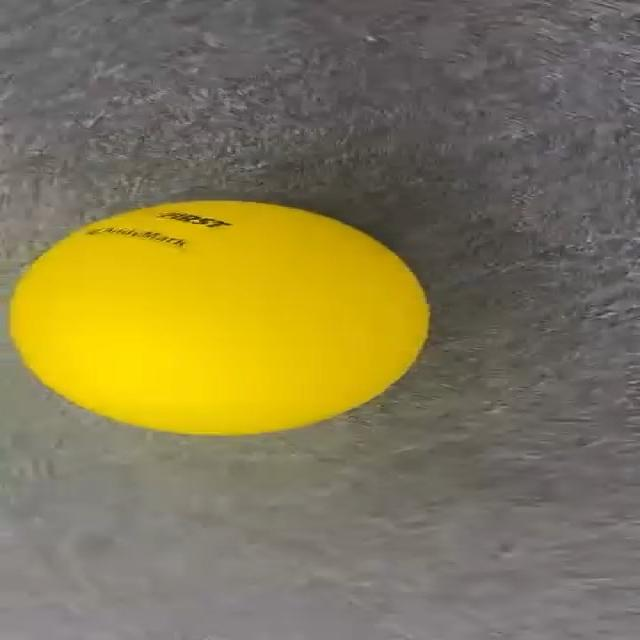Fuels: (9, 194, 427, 440)
